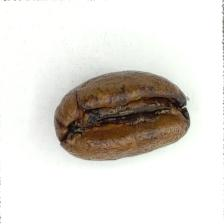NG: (60, 85, 181, 143)
